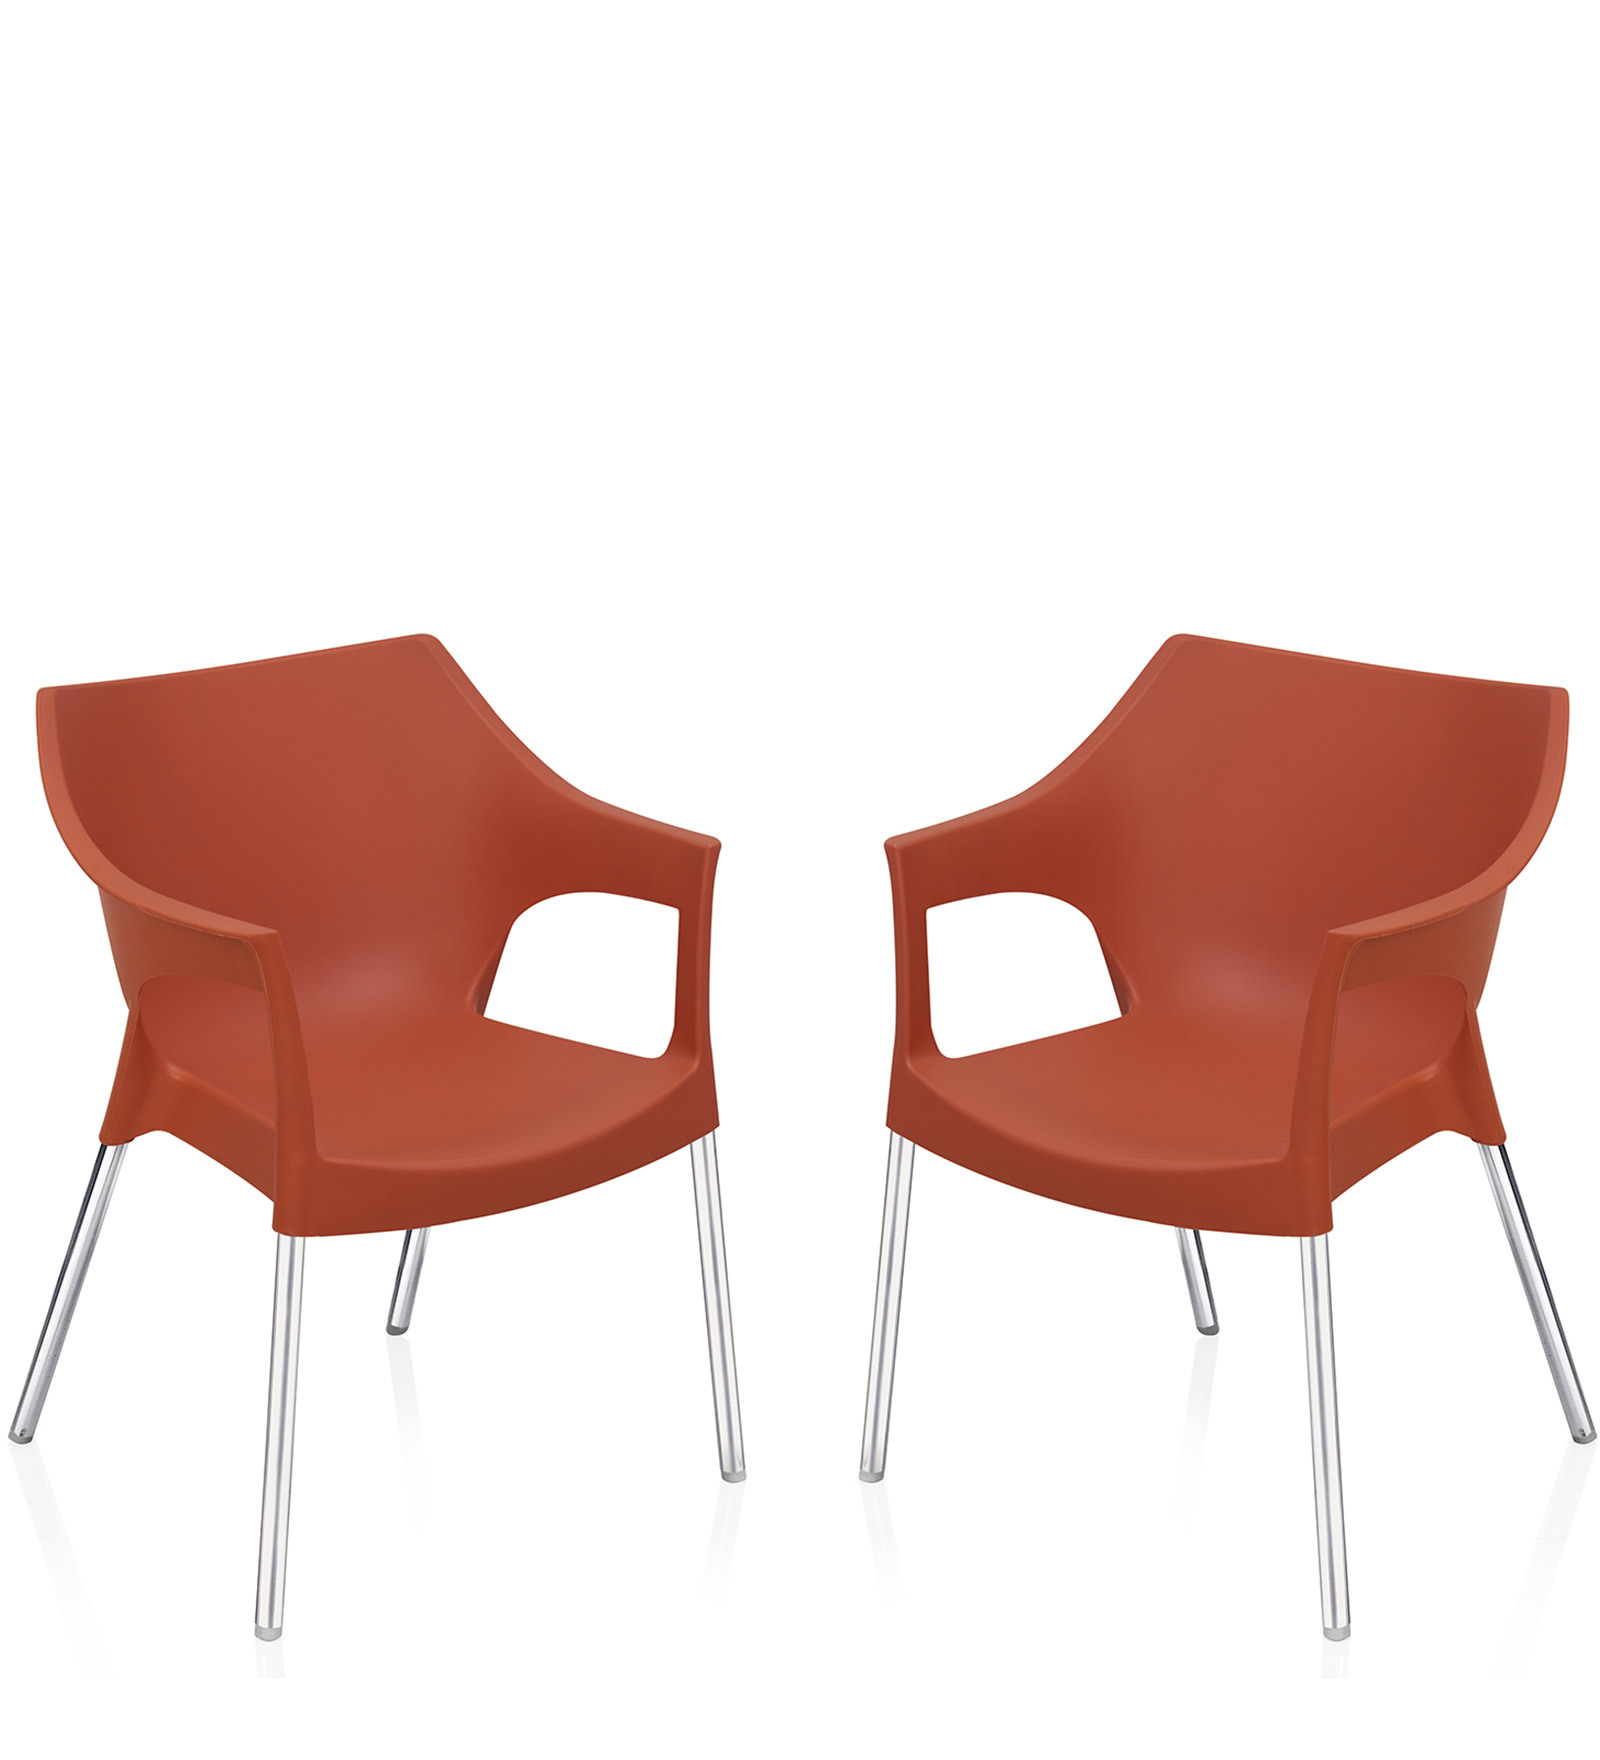Novella Series - 10 Chair (Set of 2) in Rust Colour by Nilkamal: (844, 619, 1595, 1643), (6, 630, 757, 1643)
